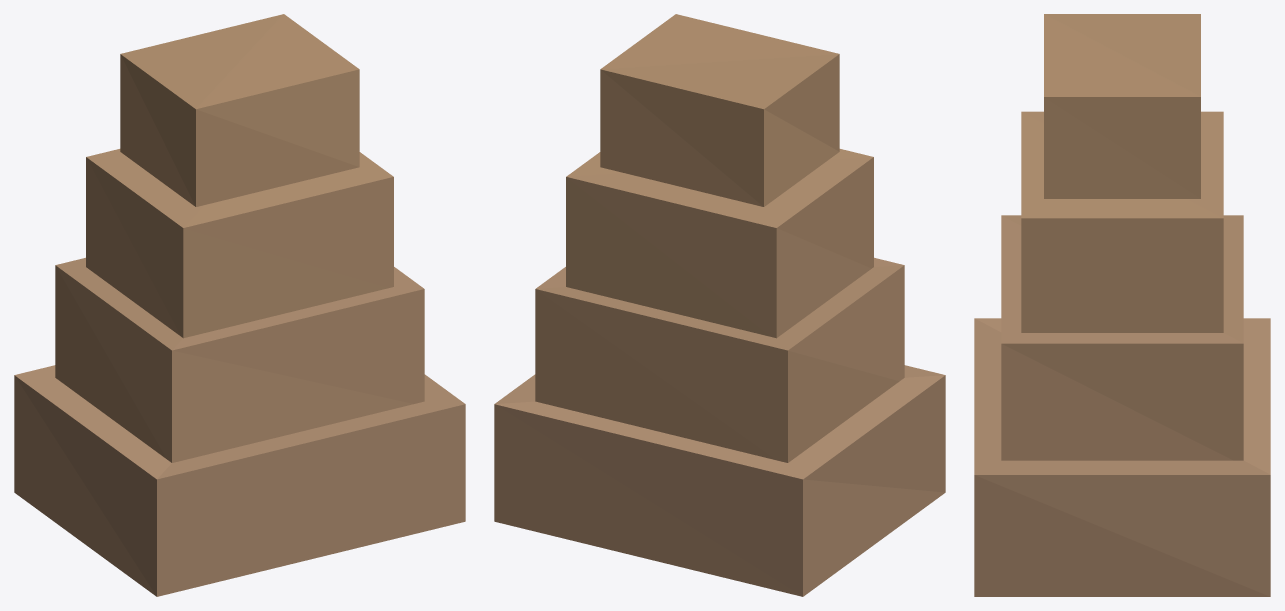
Rendered from sandstone_column.glb.
3 views of the same model, side by side, from view 1: azimuth 30°, elevation 25°; view 2: azimuth 150°, elevation 25°; view 3: azimuth 270°, elevation 25° (orthographic). The views are drawn at different scales.
Parts seen in each view (by area): view 1: tier_0, tier_1, tier_2, tier_3; view 2: tier_0, tier_1, tier_2, tier_3; view 3: tier_0, tier_1, tier_2, tier_3.
Boxes of the visible parts, box(x1,y1,x2,y2) form: tier_0: box(14, 365, 465, 596); tier_1: box(55, 257, 424, 462); tier_2: box(86, 149, 393, 338); tier_3: box(120, 14, 359, 206); tier_0: box(494, 365, 945, 596); tier_1: box(535, 257, 904, 462); tier_2: box(566, 149, 873, 338); tier_3: box(600, 14, 839, 206); tier_0: box(974, 318, 1270, 596); tier_1: box(1001, 215, 1243, 460); tier_2: box(1021, 111, 1223, 332); tier_3: box(1044, 14, 1200, 198).
Bounding box in the file's own units: 0.66 × 0.91 × 0.528.
